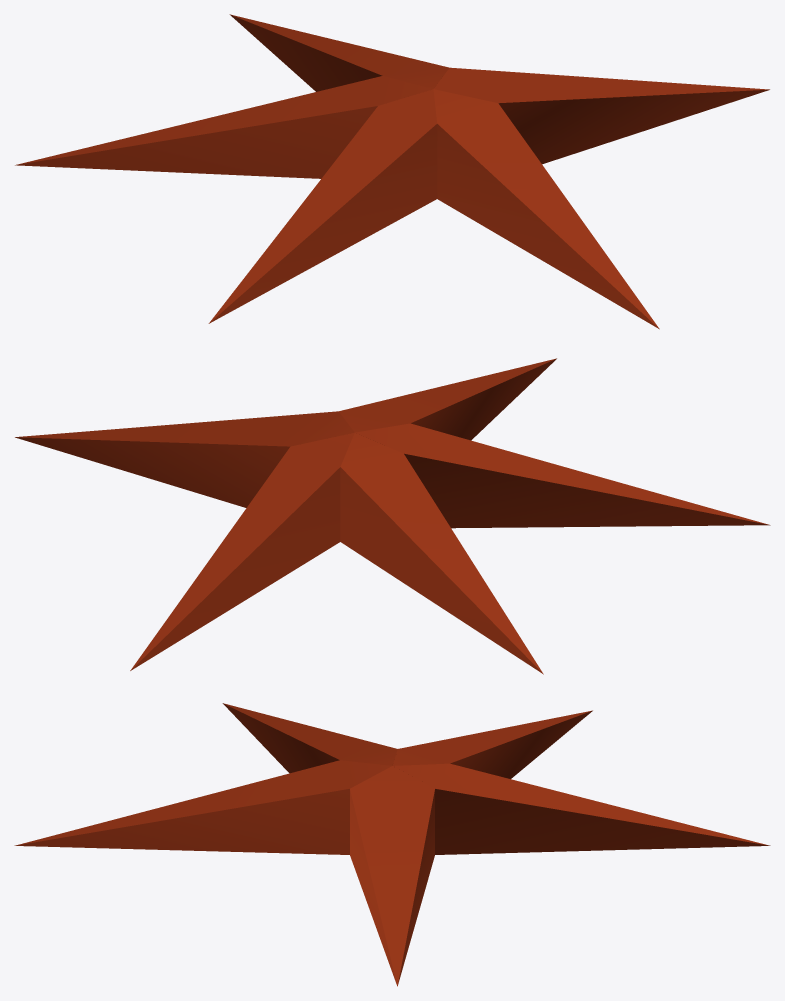
The model's file is Estrela do mar.FBX.
3 renders of one model, top to bottom at view 1: azimuth 30°, elevation 25°; view 2: azimuth 150°, elevation 25°; view 3: azimuth 270°, elevation 25°, orthographic. The views are drawn at different scales.
Parts seen in each view (by area): view 1: Pyramid001; view 2: Pyramid001; view 3: Pyramid001.
Part boxes in pixels (box(x1,y1,x2,y2)): Pyramid001: box(15, 14, 769, 329); Pyramid001: box(15, 358, 770, 674); Pyramid001: box(14, 703, 770, 986).
Bounding box in the file's own units: 57.76 × 7.13 × 65.08.
